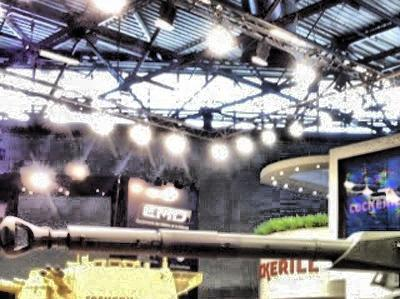tanks: (1, 220, 400, 289), (387, 291, 400, 299)
